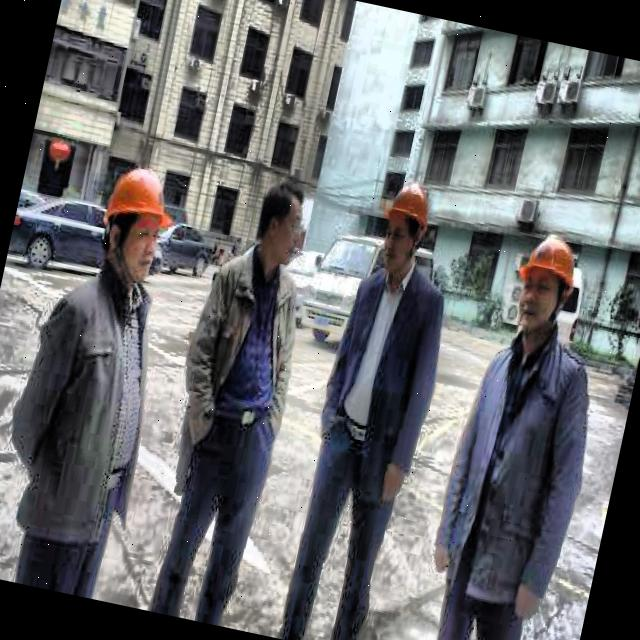helmet: (81, 155, 188, 289), (491, 218, 594, 347), (365, 160, 445, 282)
